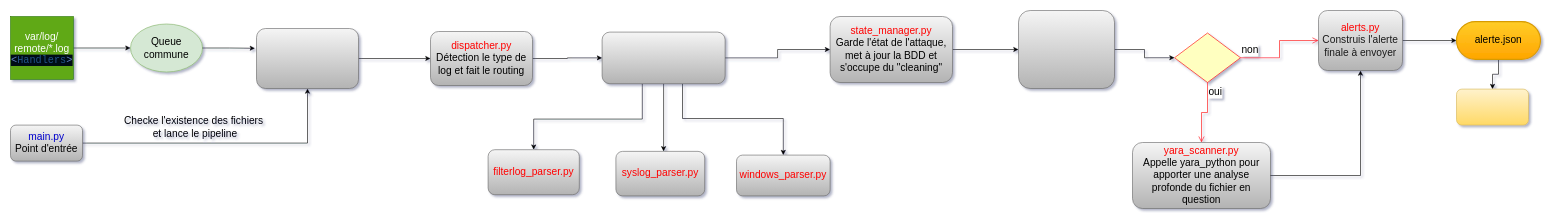
This 1555x223 diagram has some shape labels left out. The centre of each missing label's shape, as x and y in pixels:
Fichier concerné ?: the point at 1207,57
parsers Formate la ligne de log dans un format structuré: the point at 663,58
reader.py Lecture en continue de /var/log/remote sur le SOC: the point at 307,58
rule_engine.py Applique les rules.yml pour enrichir complètement le log: the point at 1066,49
SOAR: the point at 1492,106
